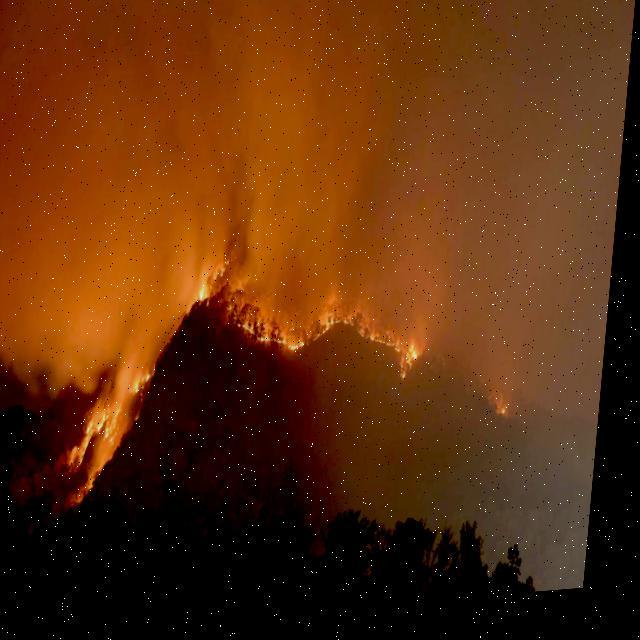Fire: (73, 411, 128, 506), (198, 262, 234, 310), (243, 322, 294, 352), (364, 332, 410, 362), (320, 320, 360, 346), (407, 346, 424, 388), (136, 376, 158, 406), (503, 406, 516, 424), (295, 346, 311, 356)
